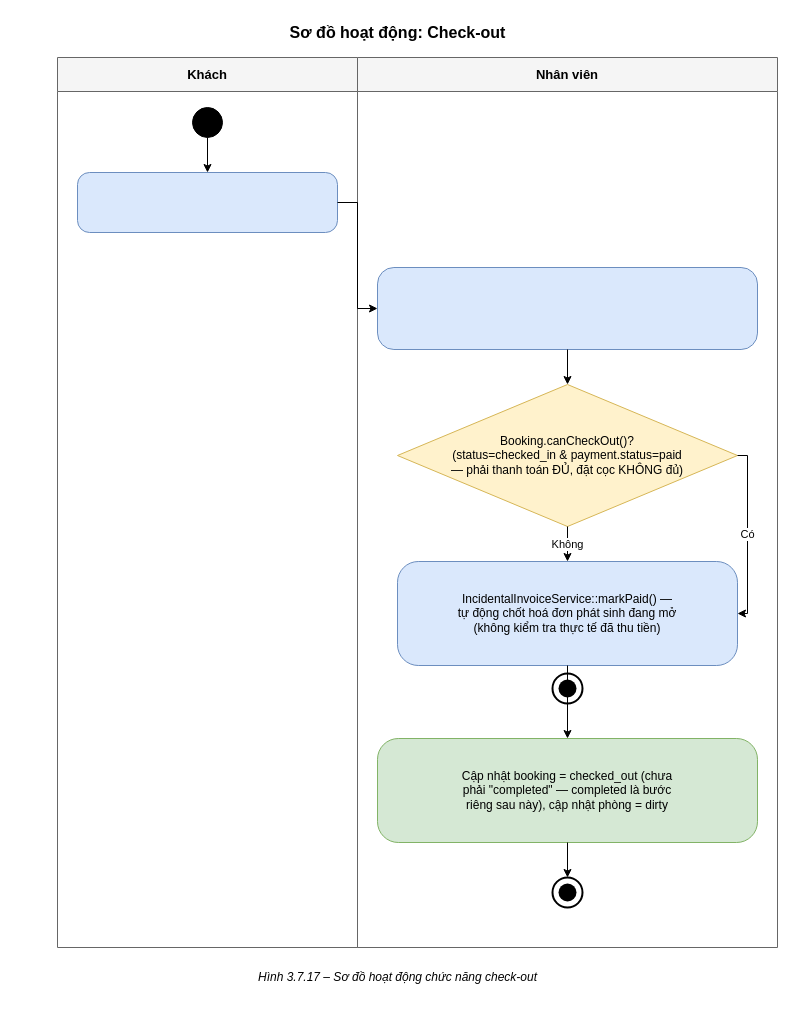
Image size: 795x1009. Some labels were removed from this diagram. The shapes that lost their labels are listed below. From the top down, each one's box as (x1, y1, x2, y2) in pixels, then its label:
(76, 172, 338, 232): Khách yêu cầu trả phòng
(376, 266, 758, 350): Nhân viên kiểm tra hoá đơn phát sinh (incidental_invoices: dịch vụ, phụ thu)
